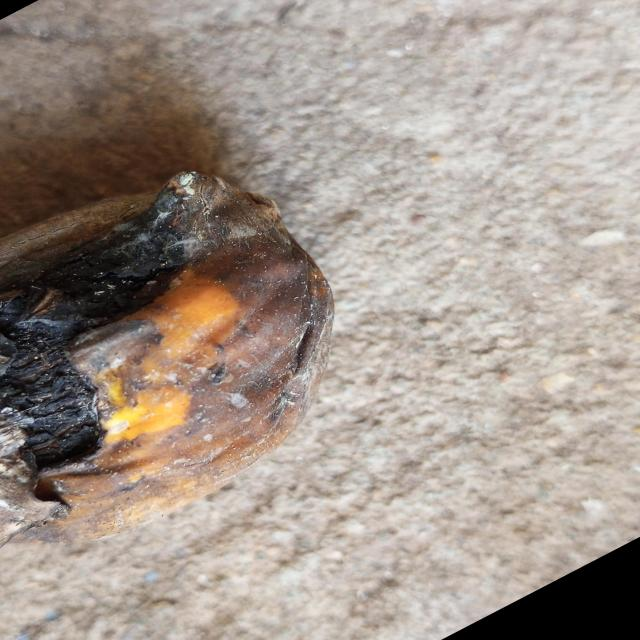damaged: (0, 171, 334, 552)
